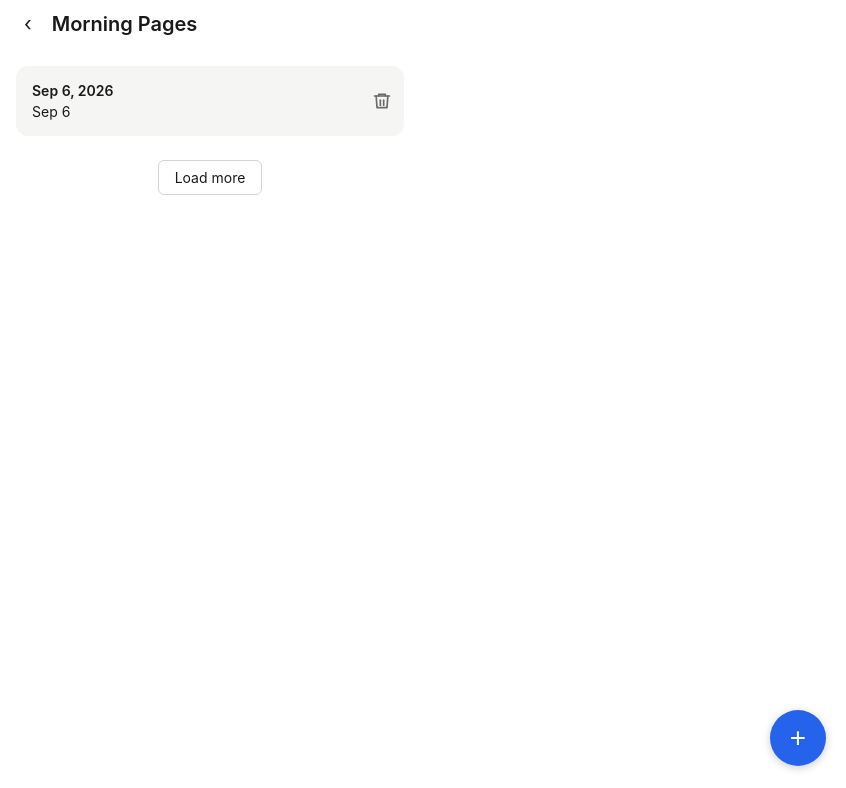
Test case: JournalPage › loads the next page on demand
Click the button "Load more": (210, 178) [158, 160, 262, 195]
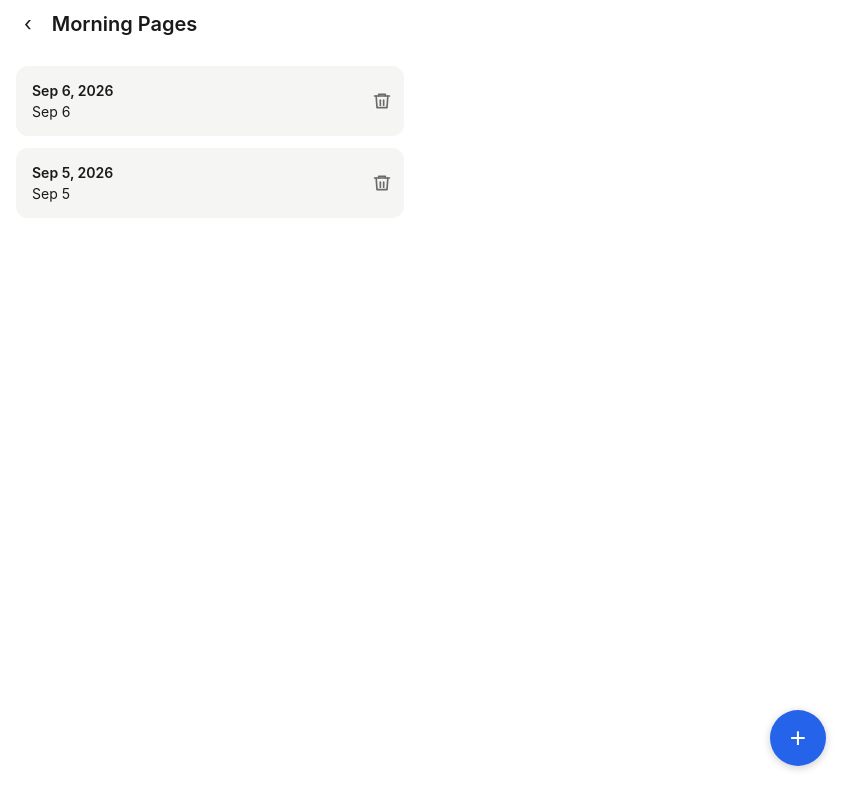
Check: the text "Sep 6" is shown, box [32, 103, 70, 120]
Check: the text "Sep 5" is shown, box [32, 185, 70, 202]
Check: the button "Load more" is gone
